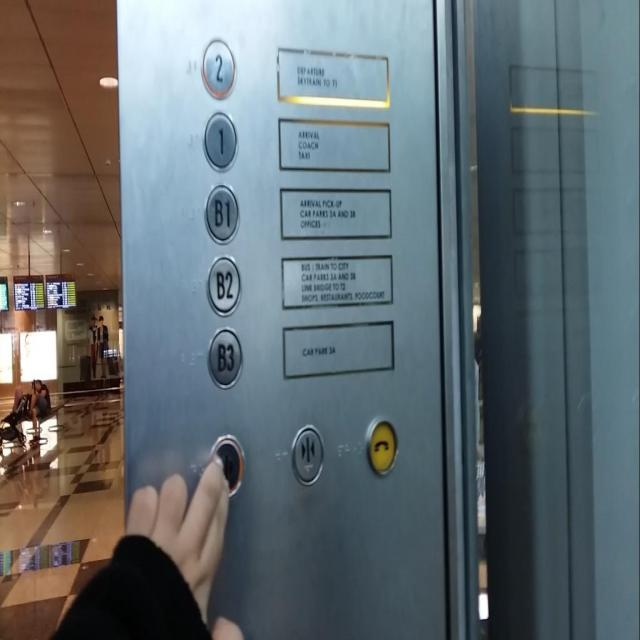1: (202, 109, 238, 173)
2: (200, 35, 237, 100)
B1: (203, 181, 240, 245)
B2: (206, 251, 241, 316)
B3: (206, 326, 243, 390)
alarm: (364, 416, 398, 477)
close: (290, 422, 326, 487)
